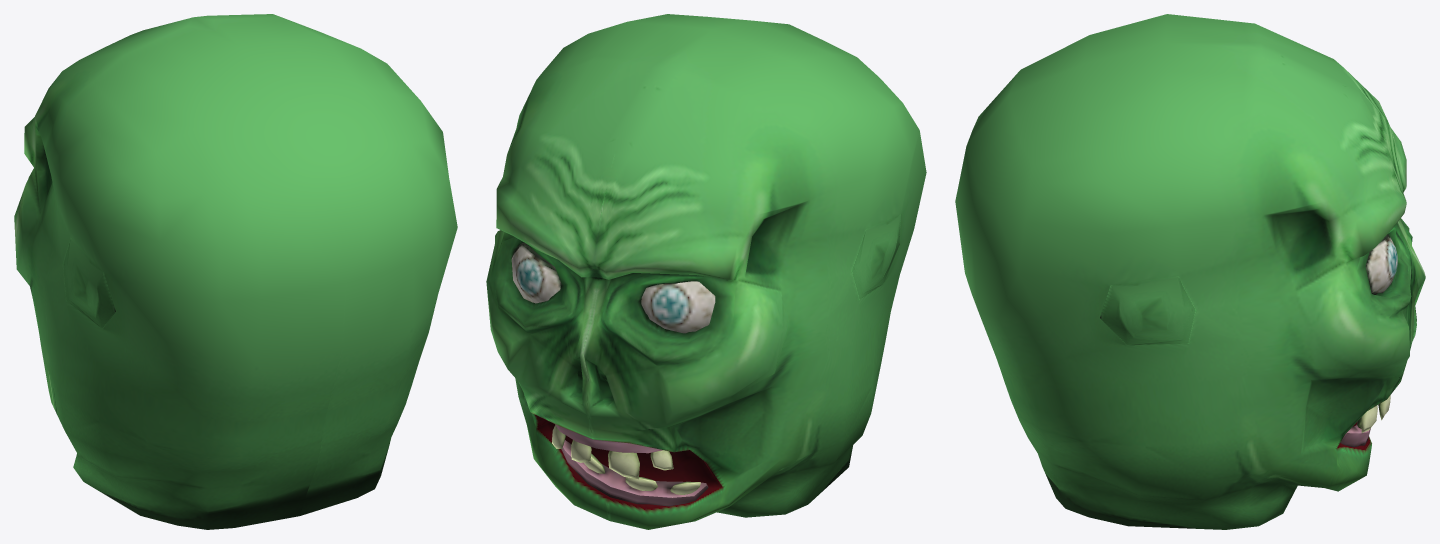
The picture shows the model from 3 angles, left to right: view 1: azimuth 30°, elevation 25°; view 2: azimuth 150°, elevation 25°; view 3: azimuth 270°, elevation 25°; orthographic projection.
Visible parts, largest first — view 1: Mesh; view 2: Mesh; view 3: Mesh.
Boxes of the visible parts, x1=… form: Mesh: x1=14, y1=14, x2=457, y2=529; Mesh: x1=486, y1=14, x2=926, y2=529; Mesh: x1=955, y1=14, x2=1425, y2=529.
Size of the model in its own units: 0.5839 by 0.6851 by 0.6846.
